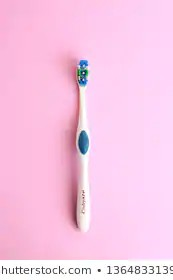toothbrush: (68, 56, 102, 234)
